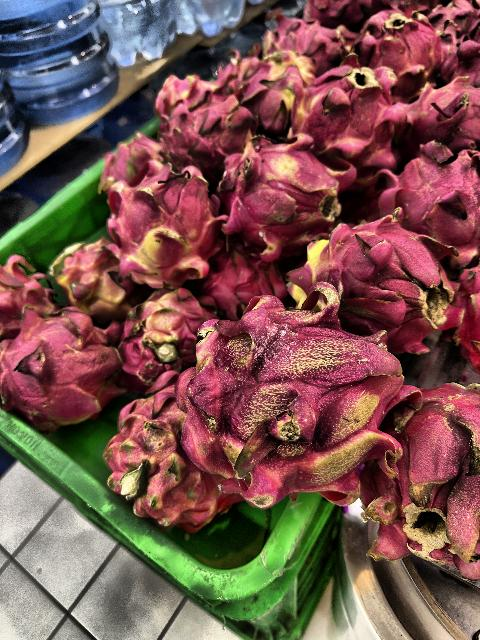buah-naga-belum-matang: (179, 310, 412, 502), (368, 372, 480, 572), (304, 213, 446, 353), (108, 382, 220, 526), (218, 140, 348, 240), (108, 165, 220, 279), (294, 61, 400, 170), (115, 296, 203, 378), (57, 238, 139, 314), (246, 46, 308, 130), (98, 136, 162, 178)
buah-naga-matang: (376, 144, 480, 258), (5, 306, 119, 408), (359, 9, 441, 97), (162, 86, 250, 158), (400, 74, 480, 148), (203, 252, 281, 316), (272, 17, 348, 71)
